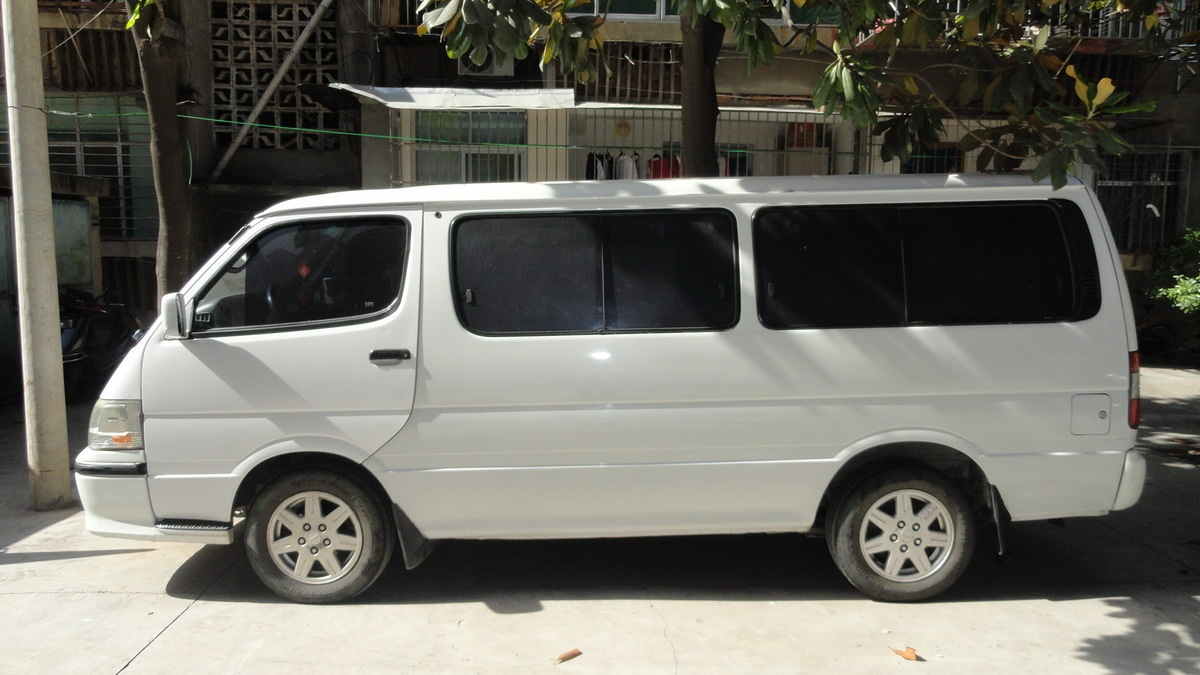minibus: (68, 157, 1140, 623)
